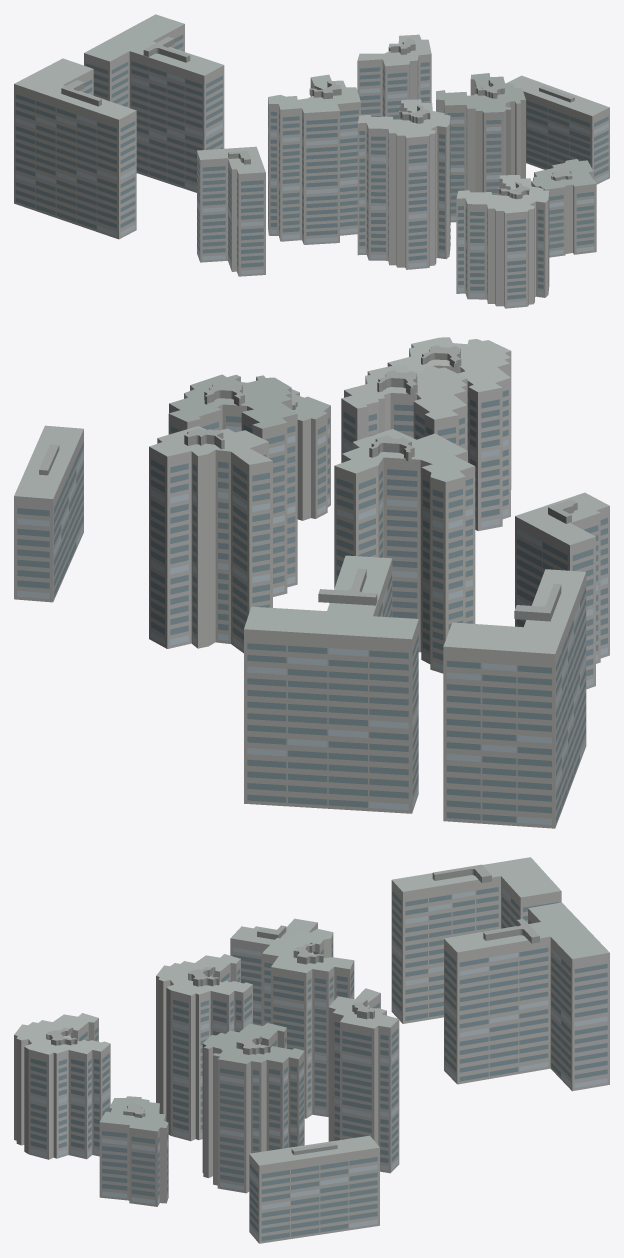
File: apt-a10023886.glb
3 renders of one model, top to bottom at view 1: azimuth 30°, elevation 25°; view 2: azimuth 150°, elevation 25°; view 3: azimuth 270°, elevation 25°, orthographic. The views are drawn at different scales.
Parts seen in each view (by area): view 1: apt-a10023886; view 2: apt-a10023886; view 3: apt-a10023886.
Part boxes in pixels (left/top/right/bottom): apt-a10023886: left=14, top=14, right=609, bottom=308; apt-a10023886: left=14, top=337, right=609, bottom=828; apt-a10023886: left=14, top=857, right=609, bottom=1243.
Bounding box in the file's own units: 194 × 54 × 191.
